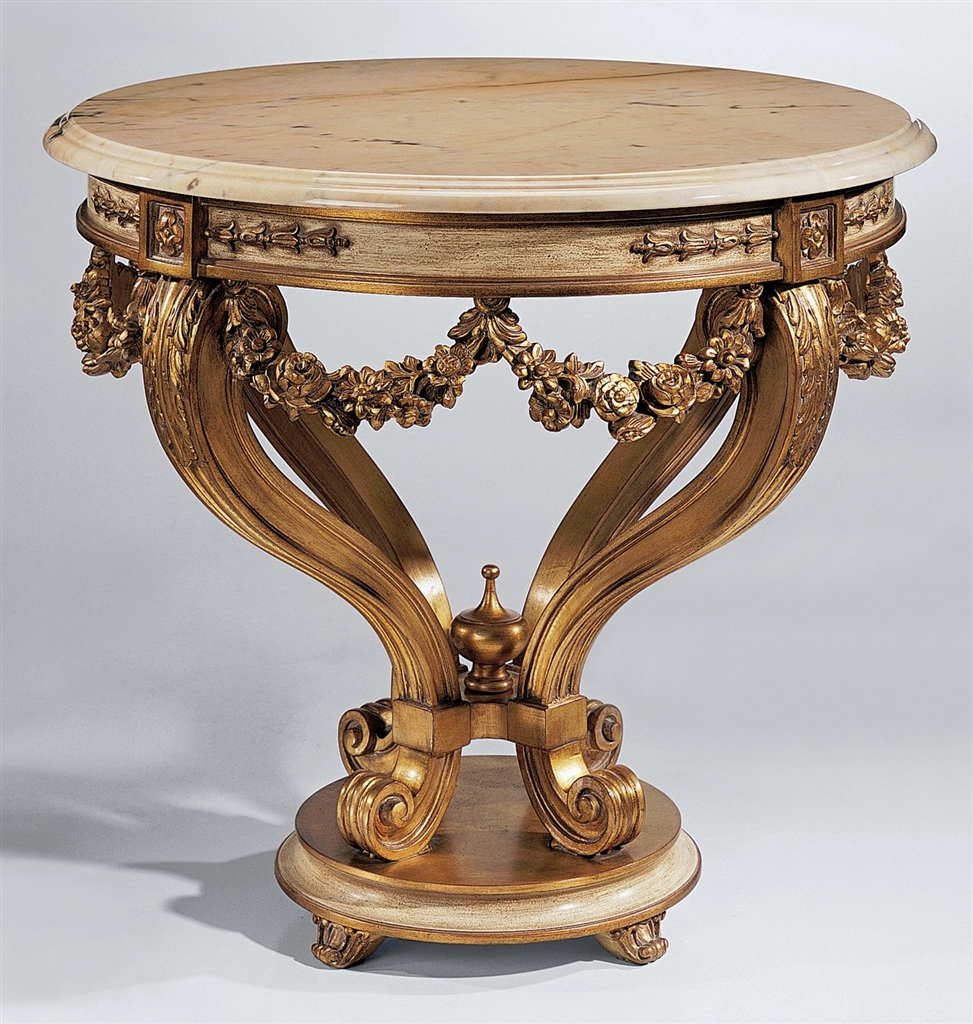Carving Table: (68, 41, 931, 986)
